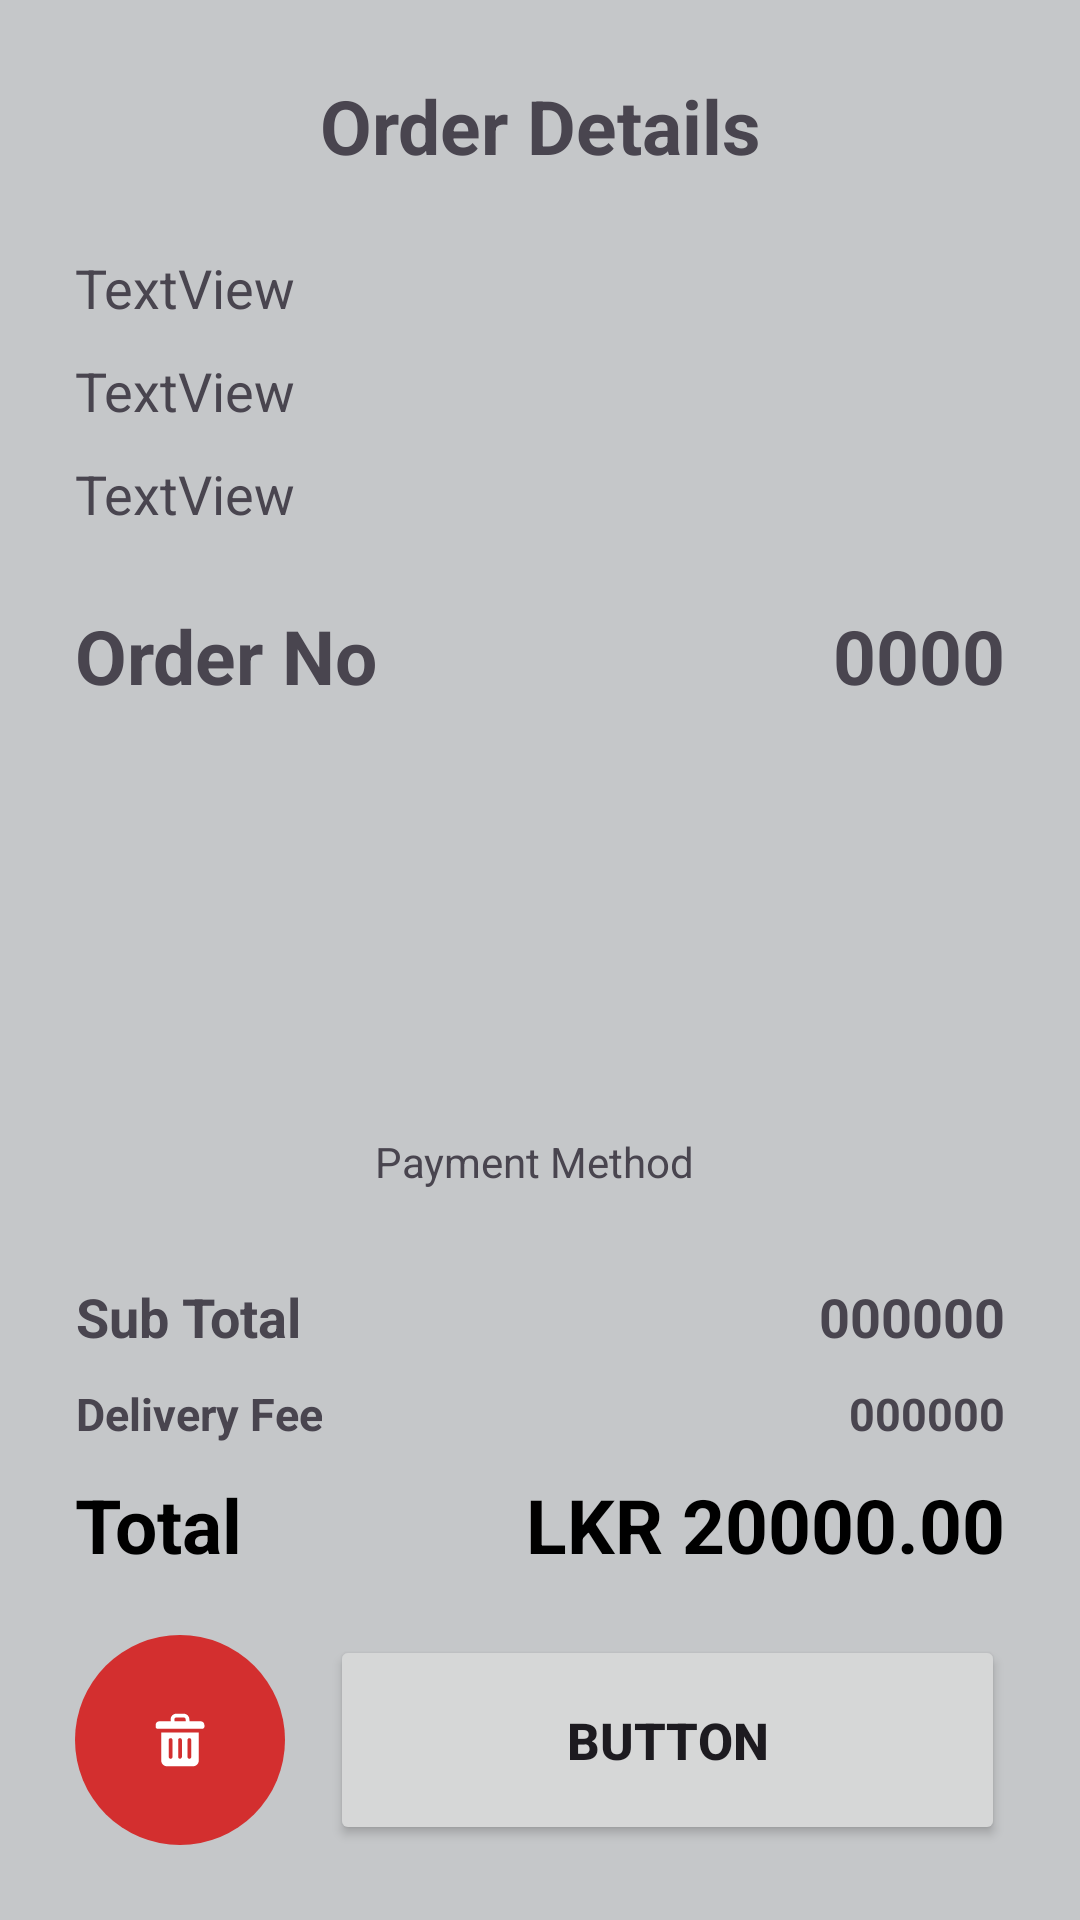

Icons on this 1080px x 1920px Android screen, each with the point to tap as point (x, y):
can trash: point (180, 1740)
